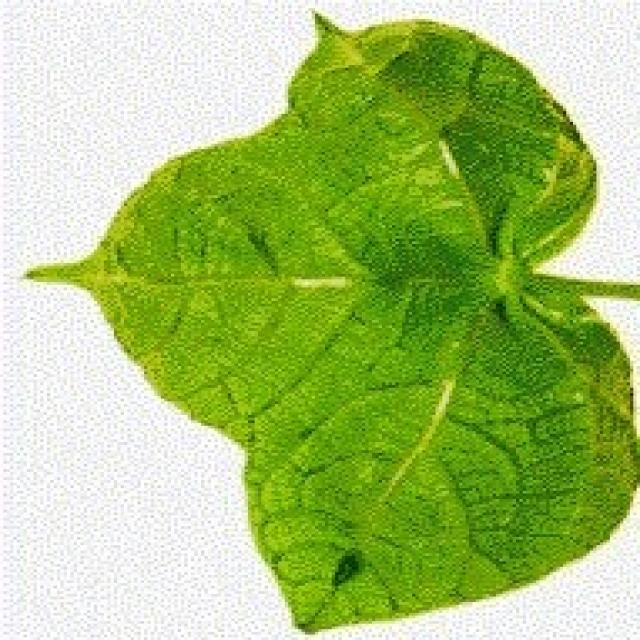Leaf Curl Virus: (185, 178, 556, 444)
